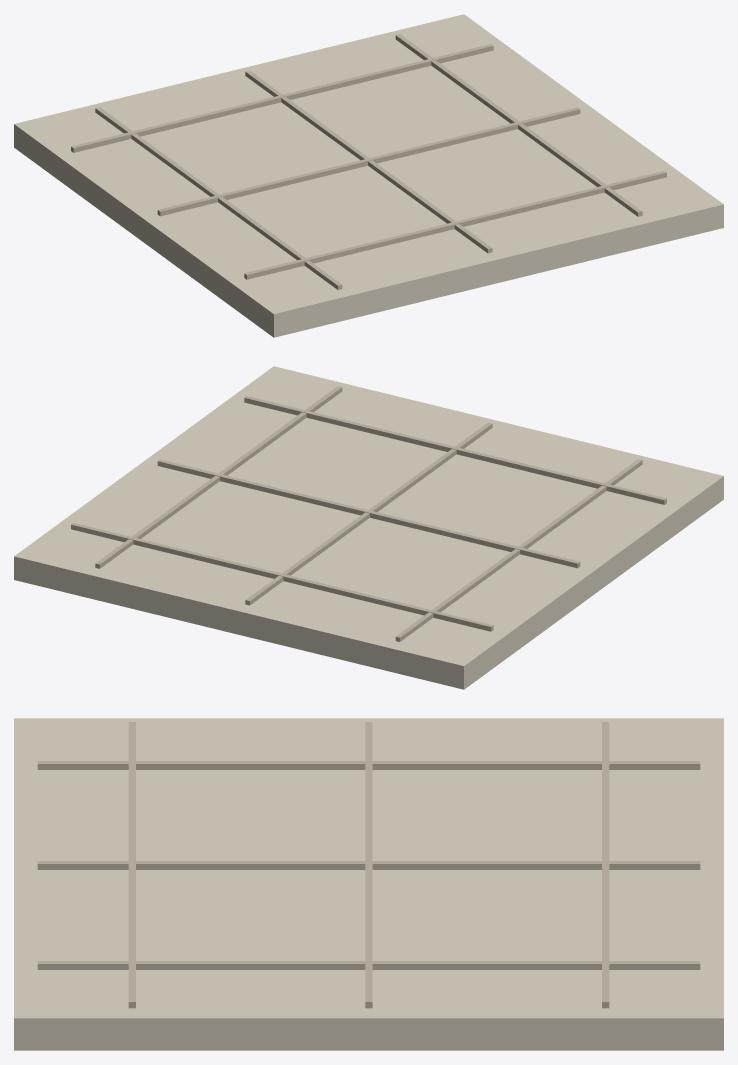
The model's file is sidewalk_tile.glb.
3 views of the same model, one above another, from view 1: azimuth 30°, elevation 25°; view 2: azimuth 150°, elevation 25°; view 3: azimuth 270°, elevation 25° (orthographic). The views are drawn at different scales.
Visible parts, largest first — view 1: tile, groove_z_-0.4, groove_z_0.4, groove_z_0, groove_x_0.4, groove_x_0, groove_x_-0.4; view 2: tile, groove_z_0.4, groove_z_-0.4, groove_z_0, groove_x_0.4, groove_x_0, groove_x_-0.4; view 3: tile, groove_x_-0.4, groove_x_0, groove_x_0.4, groove_z_0, groove_z_-0.4, groove_z_0.4.
Boxes of the visible parts, left/top/right/bottom form: tile: left=14, top=14, right=723, bottom=337; groove_z_-0.4: left=71, top=44, right=493, bottom=152; groove_z_0.4: left=244, top=170, right=666, bottom=279; groove_z_0: left=157, top=107, right=580, bottom=216; groove_x_0.4: left=395, top=34, right=642, bottom=216; groove_x_0: left=245, top=70, right=492, bottom=253; groove_x_-0.4: left=95, top=107, right=342, bottom=289; tile: left=14, top=366, right=723, bottom=689; groove_z_0.4: left=244, top=396, right=666, bottom=504; groove_z_-0.4: left=71, top=522, right=493, bottom=631; groove_z_0: left=157, top=459, right=580, bottom=568; groove_x_0.4: left=95, top=386, right=342, bottom=568; groove_x_0: left=245, top=422, right=492, bottom=605; groove_x_-0.4: left=395, top=459, right=642, bottom=641; tile: left=14, top=718, right=723, bottom=1050; groove_x_-0.4: left=37, top=761, right=700, bottom=769; groove_x_0: left=37, top=861, right=700, bottom=869; groove_x_0.4: left=37, top=961, right=700, bottom=969; groove_z_0: left=365, top=722, right=372, bottom=1008; groove_z_-0.4: left=602, top=722, right=609, bottom=1008; groove_z_0.4: left=128, top=722, right=135, bottom=1008.
Bounding box in the file's own units: 1.2 × 0.072 × 1.2.
